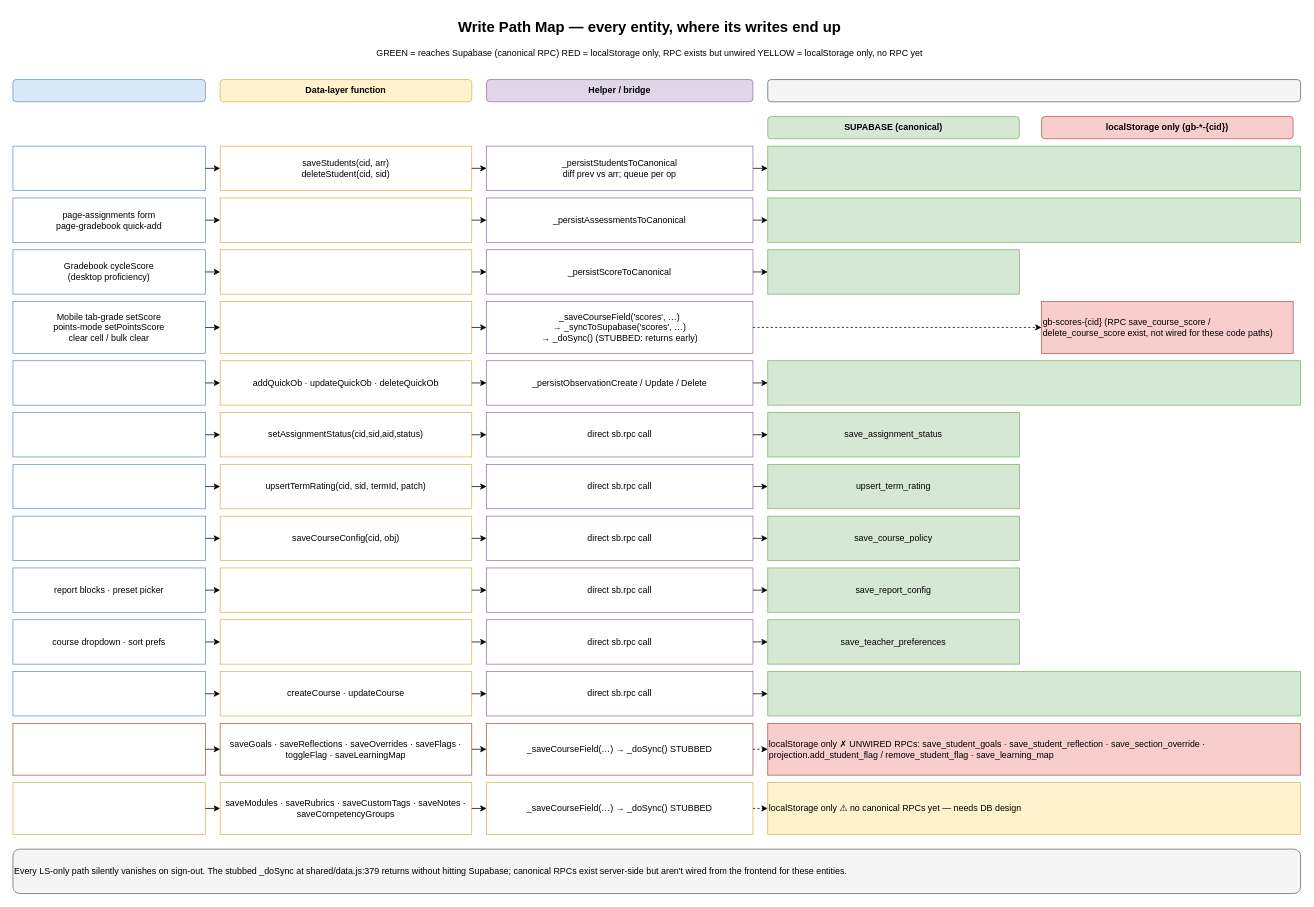
This 1314x907 diagram has some shape labels left out. Each missing label, with the box of its shape:
class-mgr new/edit course duplicate/archive/delete: (12, 671, 205, 716)
class-mgr policy panel late-policy editor category weights / grading scale: (12, 515, 205, 561)
create_assessment · update_assessment · delete_assessment: (767, 197, 1301, 242)
create_course · update_course (delete_course NOT available): (767, 671, 1301, 716)
create_observation · update_observation · delete_observation: (767, 360, 1301, 405)
dash-class-manager page-student (edit): (12, 145, 205, 191)
Destination: (767, 79, 1301, 102)
enroll_student · withdraw_enrollment · update_enrollment · update_student: (767, 145, 1301, 191)
Goals · Reflections · Overrides · Flags · Learning map: (12, 723, 205, 775)
Gradebook status menu mobile status pills: (12, 412, 205, 457)
Modules · Rubrics · Custom tags · Notes · Competency groups · Attendance: (12, 782, 205, 834)
page-observations mobile tab-observe: (12, 360, 205, 405)
save_course_score: (767, 249, 1019, 294)
saveAssessments(cid, arr): (219, 197, 472, 242)
saveConfig(obj): (219, 619, 472, 664)
saveReportConfig(cid, config): (219, 567, 472, 612)
saveScores(cid, scoresObj): (219, 301, 472, 353)
Term questionnaire (narrative, dims, strengths, growth, …): (12, 464, 205, 509)
UI writer: (12, 79, 205, 102)
upsertScore(cid,sid,aid,tid,score,...): (219, 249, 472, 294)
